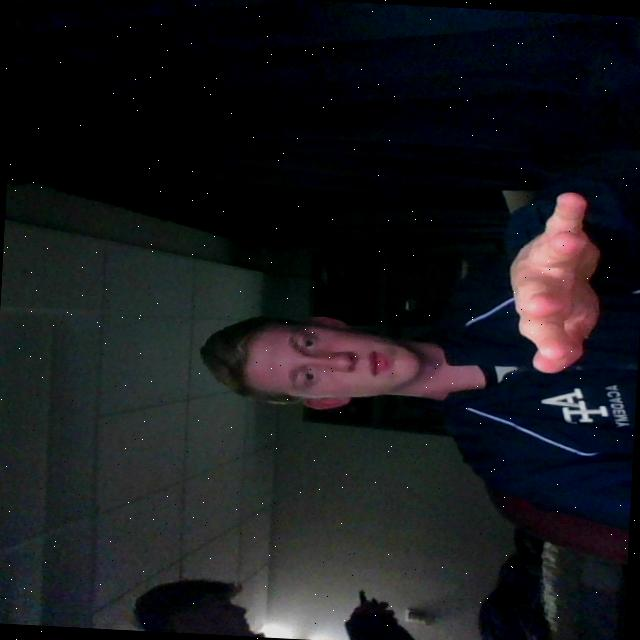paper: (491, 182, 617, 379)
